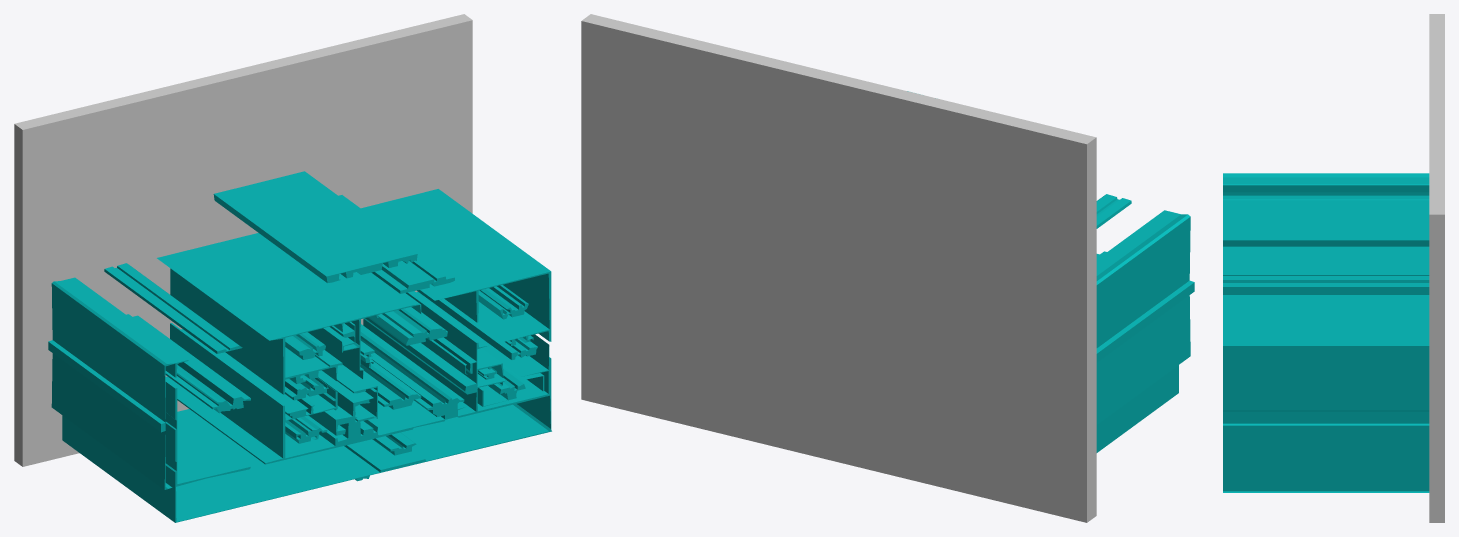
3 renders of one model, left to right at view 1: azimuth 30°, elevation 25°; view 2: azimuth 150°, elevation 25°; view 3: azimuth 270°, elevation 25°, orthographic. The views are drawn at different scales.
Parts seen in each view (by area): view 1: world; view 2: world; view 3: world.
Boxes of the visible parts, box(x1,y1,x2,y2) form: world: box(14, 14, 551, 522); world: box(581, 14, 1194, 522); world: box(1223, 14, 1444, 522).
Size of the model in its own units: 4.6 by 3.29 by 2.15.
